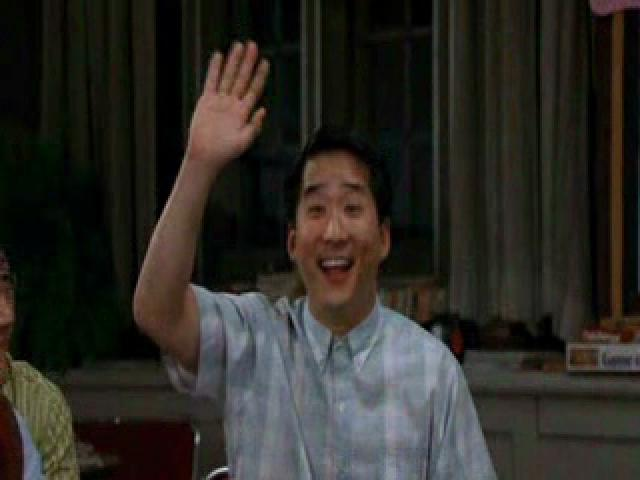T: (116, 25, 501, 480)
